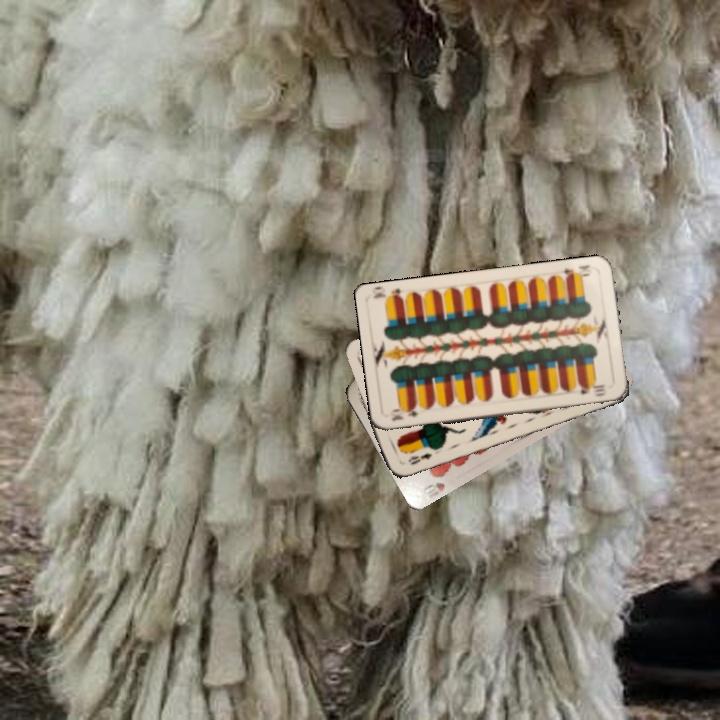E10: (557, 261, 595, 282), (387, 403, 421, 423)
EO: (404, 449, 434, 467)
H10: (418, 478, 448, 502)
